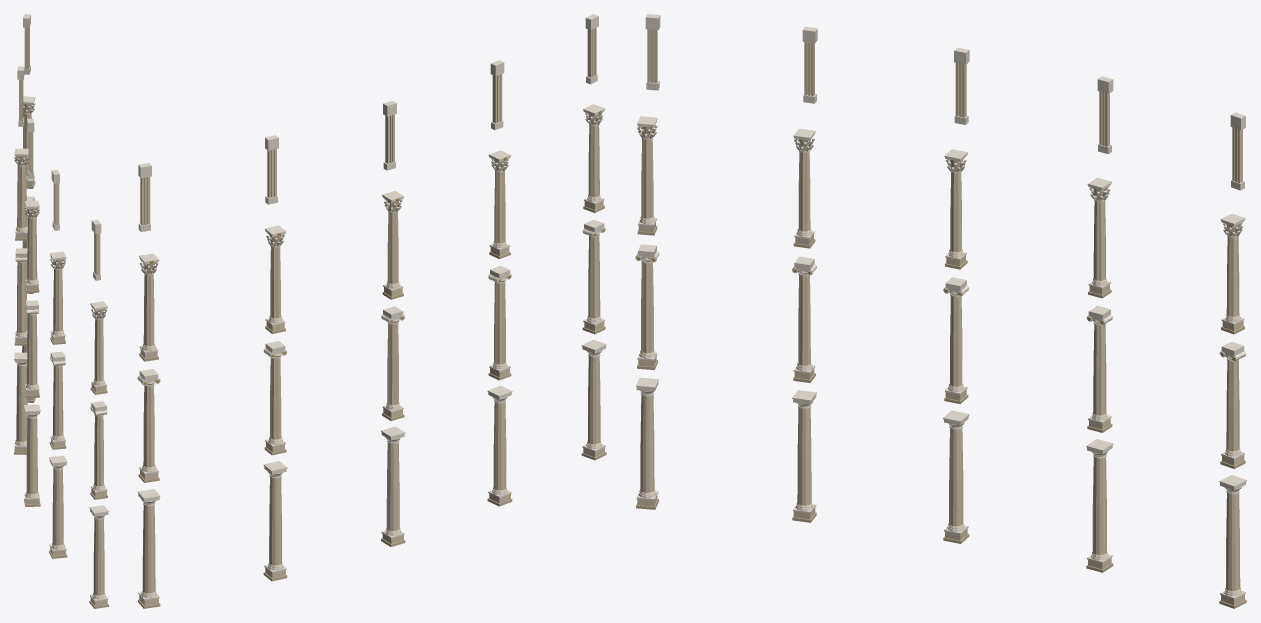
The model's file is COL_ColumnOrders_O5.glb.
3 renders of one model, left to right at view 1: azimuth 30°, elevation 25°; view 2: azimuth 150°, elevation 25°; view 3: azimuth 270°, elevation 25°, orthographic. The views are drawn at different scales.
Visible parts, largest first — view 1: COL_ColumnOrders_O5; view 2: COL_ColumnOrders_O5; view 3: COL_ColumnOrders_O5.
Boxes of the visible parts, x1,y1,x2,y2 form: COL_ColumnOrders_O5: (14,14,108,608); COL_ColumnOrders_O5: (137,14,606,608); COL_ColumnOrders_O5: (635,14,1246,608).
Bounding box in the file's own units: 27.8 × 58.2 × 66.06.
